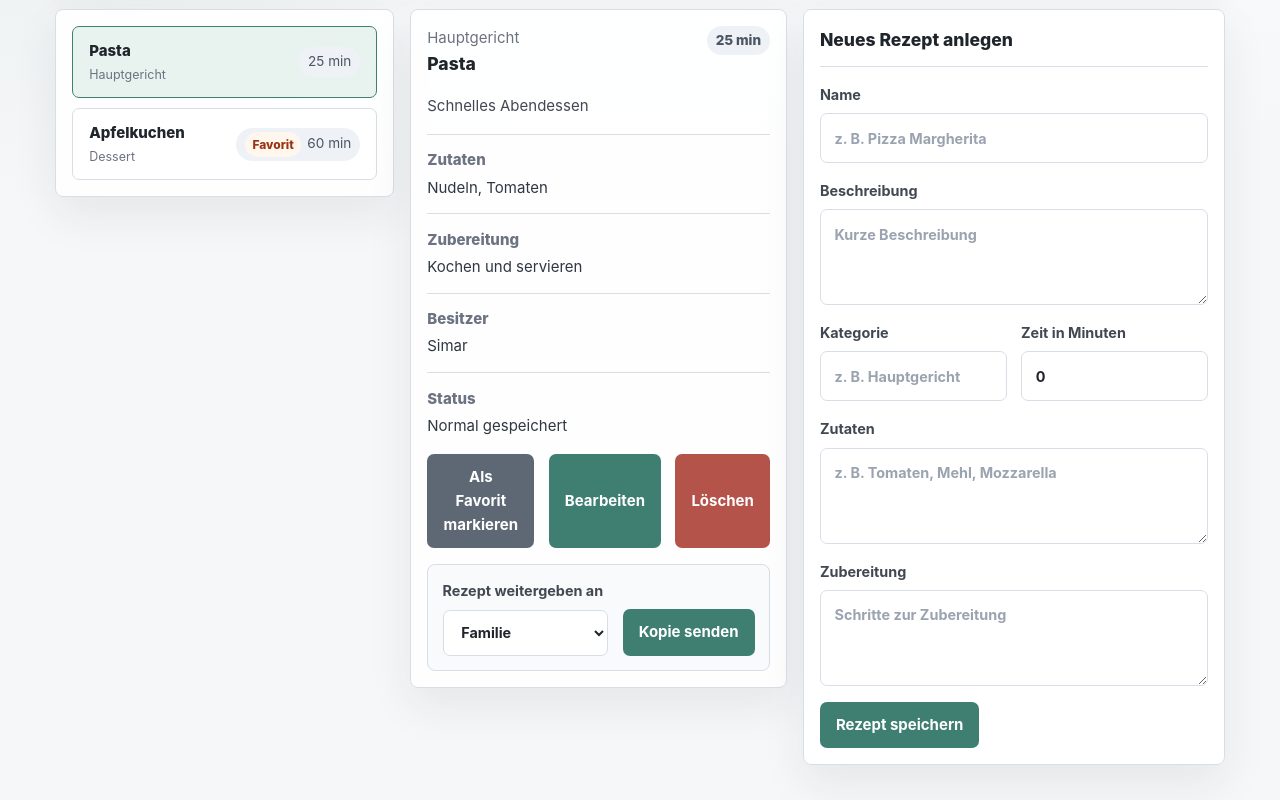
RecipeList › deletes the selected recipe
(page scrolled)
Step 1. Click the button with class "danger-button" → click(723, 501), box [675,454,770,548]
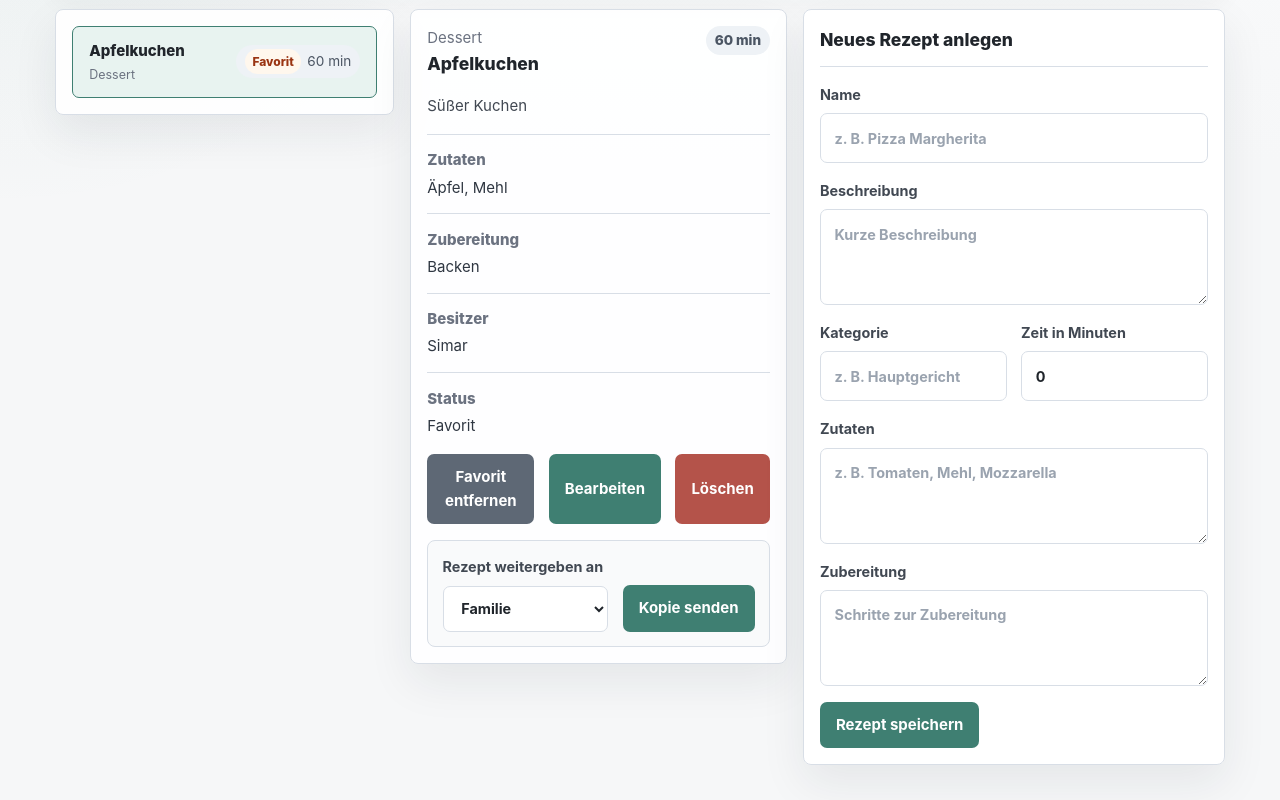
Expected: the button with class "recipe-list" no longer shows "Pasta"
